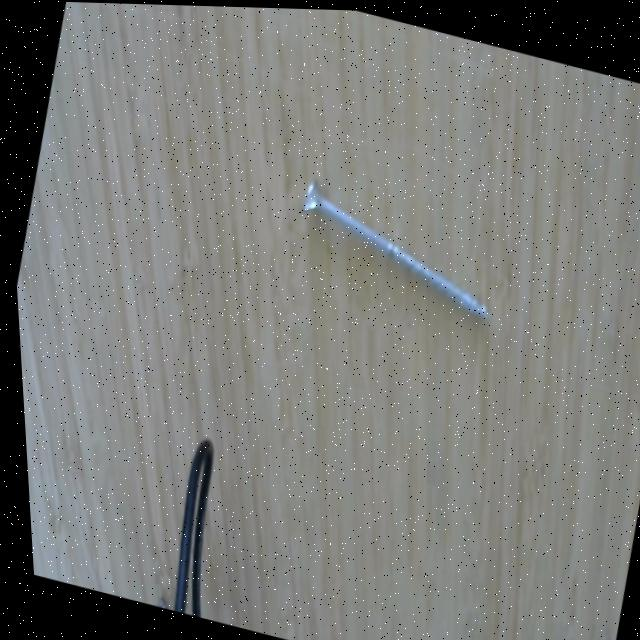Long screw: (287, 167, 494, 324)
